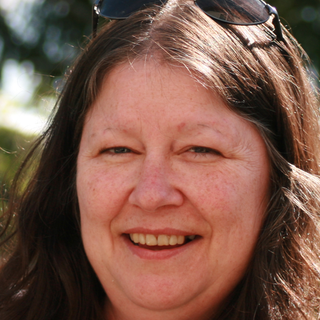eye: (176, 140, 228, 163), (97, 140, 144, 163)
